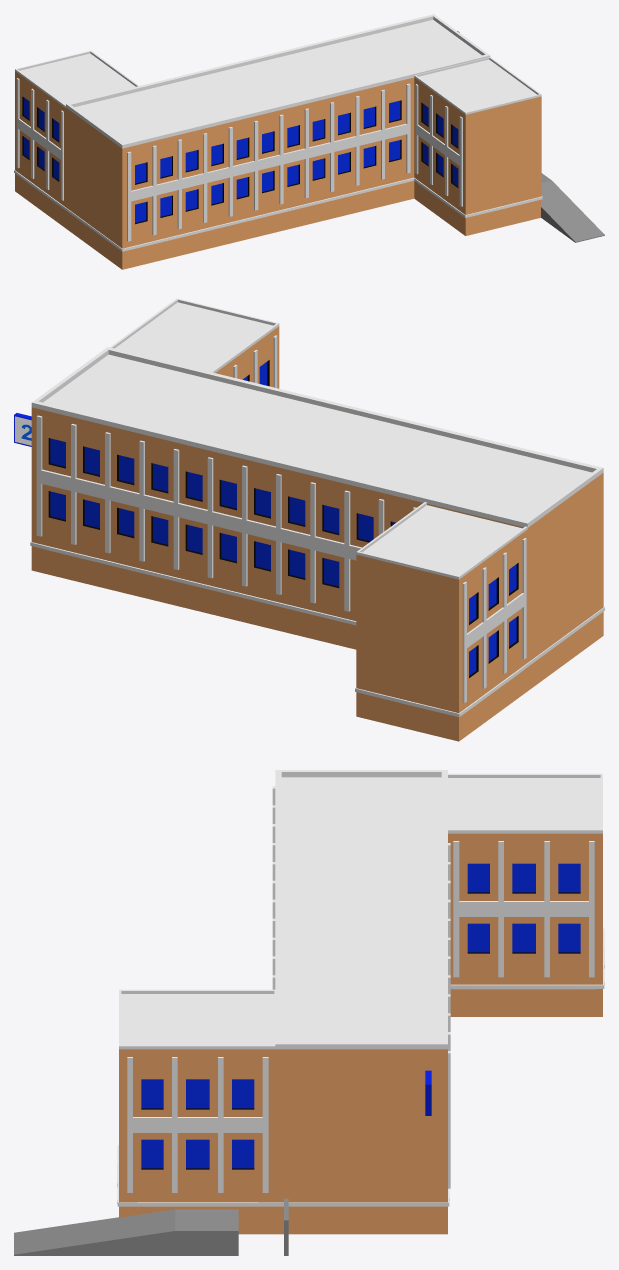
Rendered from blok1.FBX.
3 renders of one model, top to bottom at view 1: azimuth 30°, elevation 25°; view 2: azimuth 150°, elevation 25°; view 3: azimuth 270°, elevation 25°, orthographic. The views are drawn at different scales.
Parts seen in each view (by area): view 1: Blok1; view 2: Blok1; view 3: Blok1.
Part boxes in pixels (<box>): Blok1: <box>14,14,604,269</box>; Blok1: <box>14,298,604,741</box>; Blok1: <box>14,770,604,1255</box>.
Size of the model in its own units: 7258 by 2171 by 6111.
